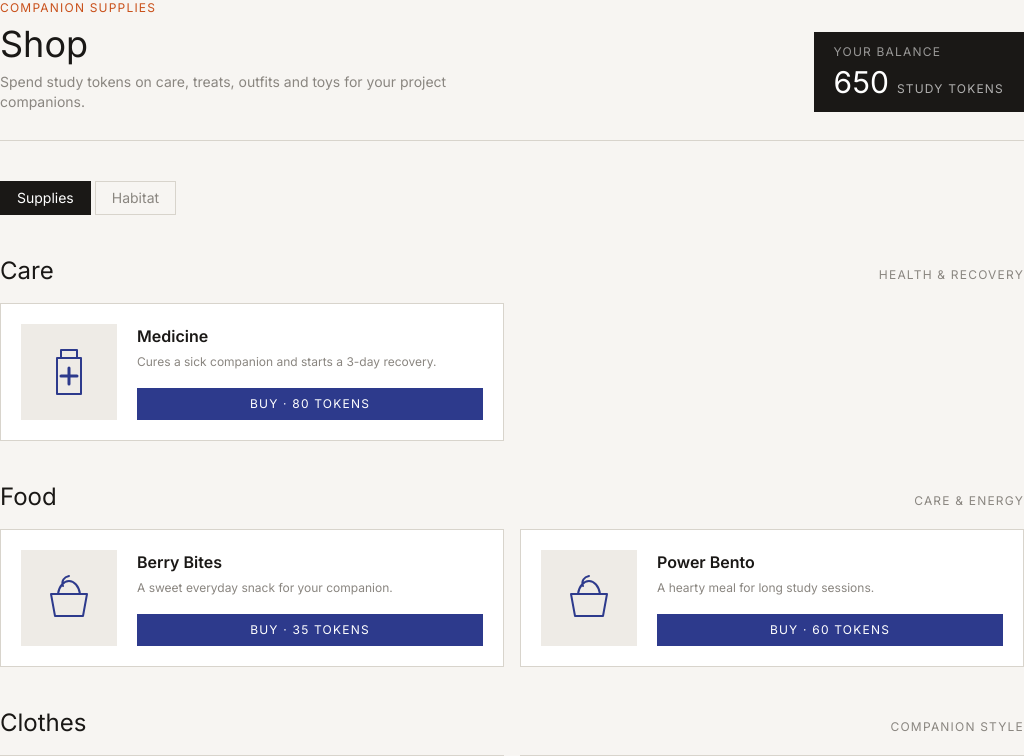
Test case: Shop tabs › the Habitat tab lists decor grouped by type
This screenshot has width=1024, height=756.
Click the tab "Habitat": click(135, 198) 95,181 -> 176,215
(page scrolled)
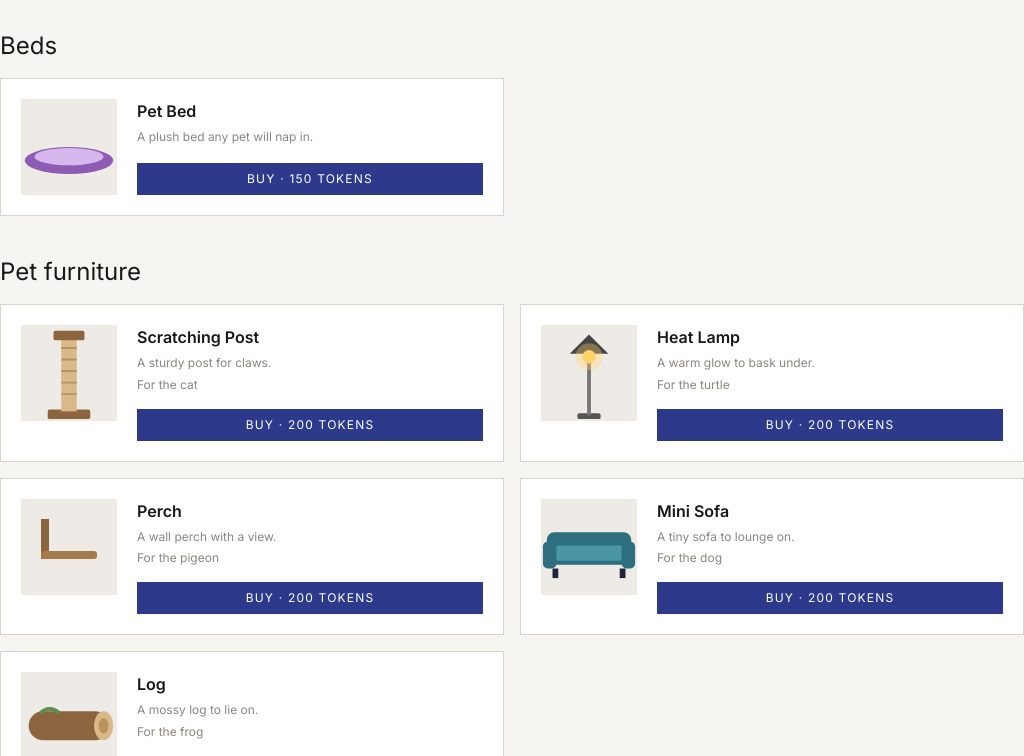
expect the heading "Beds" is shown: met, box 0,31 -> 57,60
expect the heading "Pet furniture" is shown: met, box 0,257 -> 141,286
expect the text "For the cat" is shown: met, box 137,376 -> 198,392
